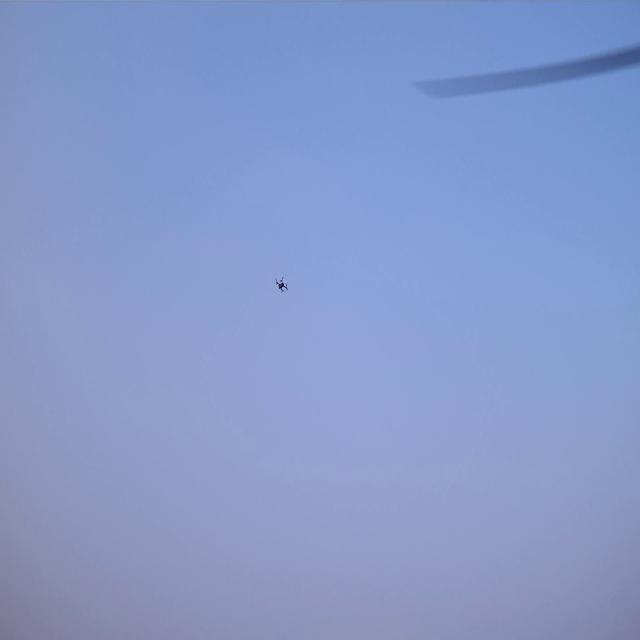UAV: (276, 280, 287, 292)
